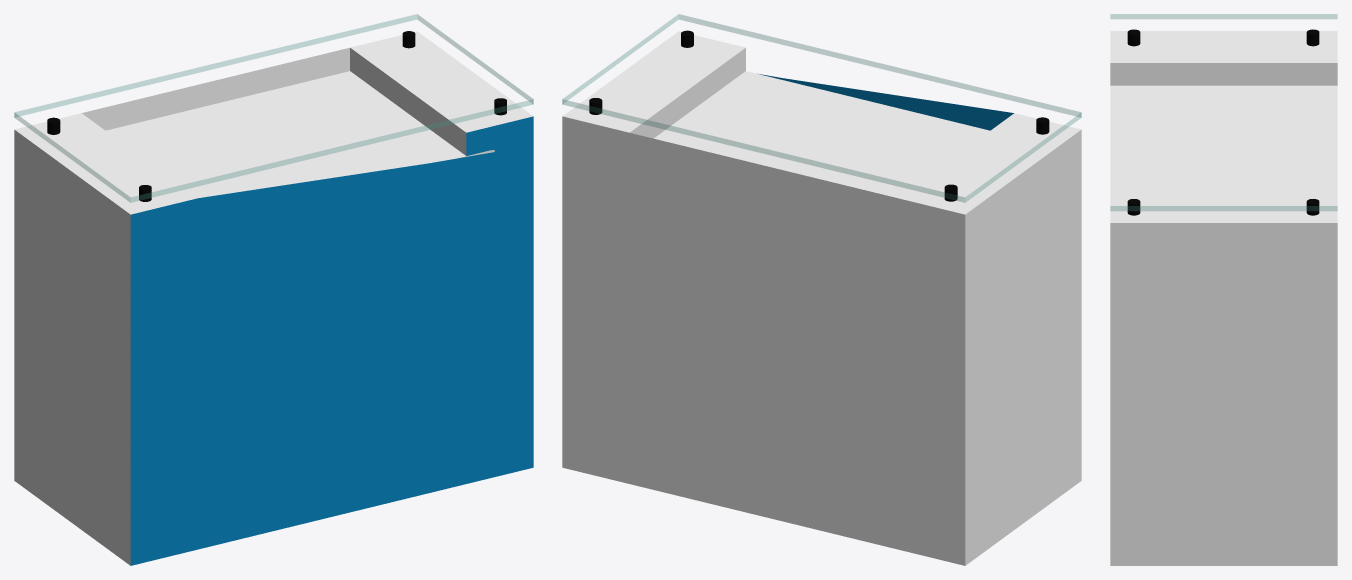
The model's file is Desk-Blue1.glb.
3 renders of one model, left to right at view 1: azimuth 30°, elevation 25°; view 2: azimuth 150°, elevation 25°; view 3: azimuth 270°, elevation 25°, orthographic. The views are drawn at different scales.
Visible parts, largest first — view 1: Group7.13, Group3.5; view 2: Group7.13, Group3.5; view 3: Group7.13, Group3.5.
Boxes of the visible parts, x1,y1,x2,y2 form: Group7.13: [14, 31, 533, 565]; Group3.5: [14, 14, 533, 202]; Group7.13: [562, 31, 1081, 565]; Group3.5: [562, 14, 1081, 202]; Group7.13: [1110, 31, 1337, 565]; Group3.5: [1110, 14, 1337, 210].
Size of what is drawn, in the model's own units: 36 by 31.47 by 18.
8 materials, 2 textured.
